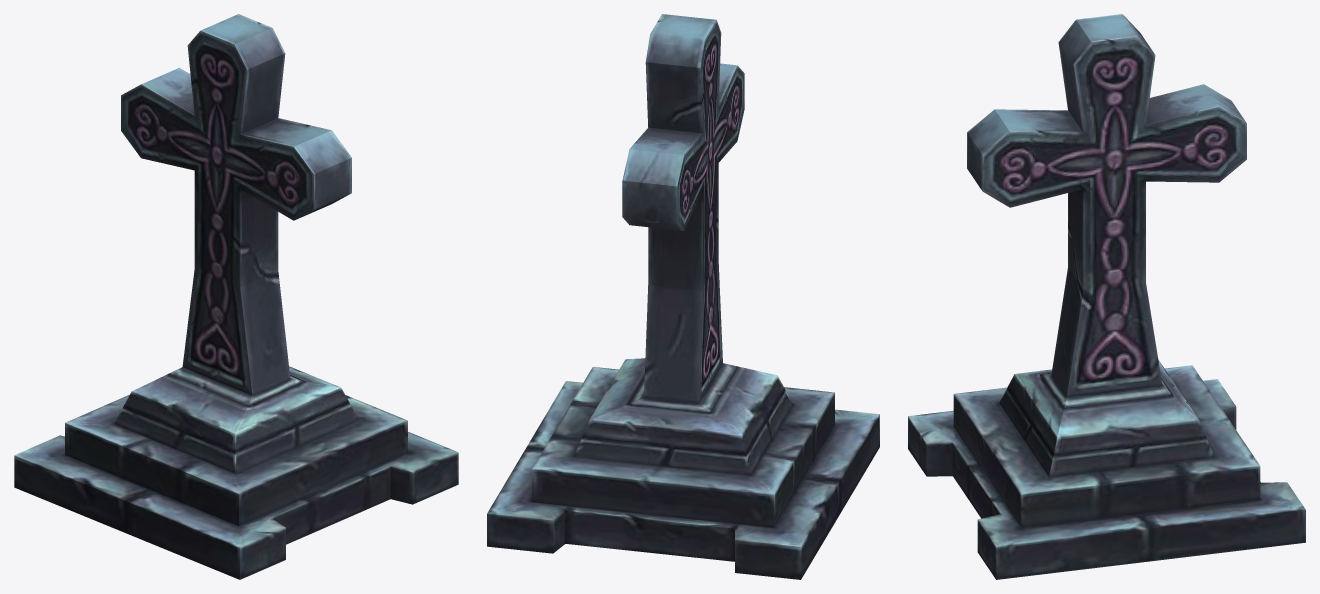
Rendered from grave_yard_2.fbx.
3 renders of one model, left to right at view 1: azimuth 30°, elevation 25°; view 2: azimuth 150°, elevation 25°; view 3: azimuth 270°, elevation 25°, orthographic. The views are drawn at different scales.
Parts seen in each view (by area): view 1: mobile_rock_06.007; view 2: mobile_rock_06.007; view 3: mobile_rock_06.007.
Boxes of the visible parts, x1,y1,x2,y2 form: mobile_rock_06.007: (14, 14, 458, 579); mobile_rock_06.007: (487, 14, 879, 579); mobile_rock_06.007: (908, 14, 1305, 579).
Size of the model in its own units: 54.65 by 70.9 by 54.65.
